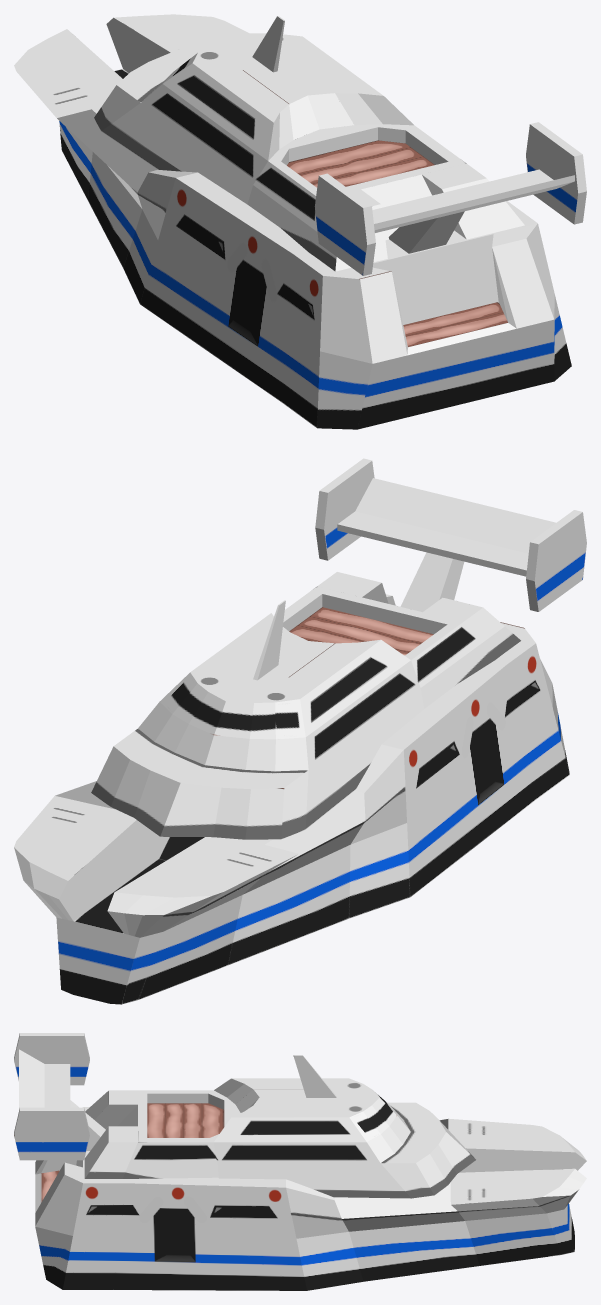
The model's file is Boat.fbx.
The picture shows the model from 3 angles, top to bottom: view 1: azimuth 30°, elevation 25°; view 2: azimuth 150°, elevation 25°; view 3: azimuth 270°, elevation 25°; orthographic projection. The views are drawn at different scales.
Parts seen in each view (by area): view 1: Cube; view 2: Cube; view 3: Cube.
Part boxes in pixels (bbox=[...]): Cube: bbox=[14, 14, 586, 429]; Cube: bbox=[14, 458, 586, 1004]; Cube: bbox=[14, 1033, 586, 1290].
Size of the model in its own units: 4.14 by 3.79 by 10.42.
